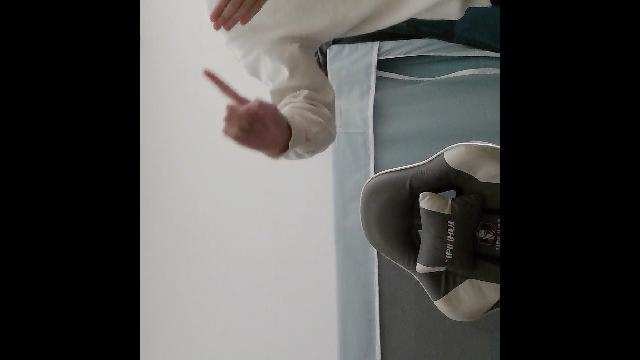four: (207, 0, 282, 32)
one: (202, 65, 286, 158)
